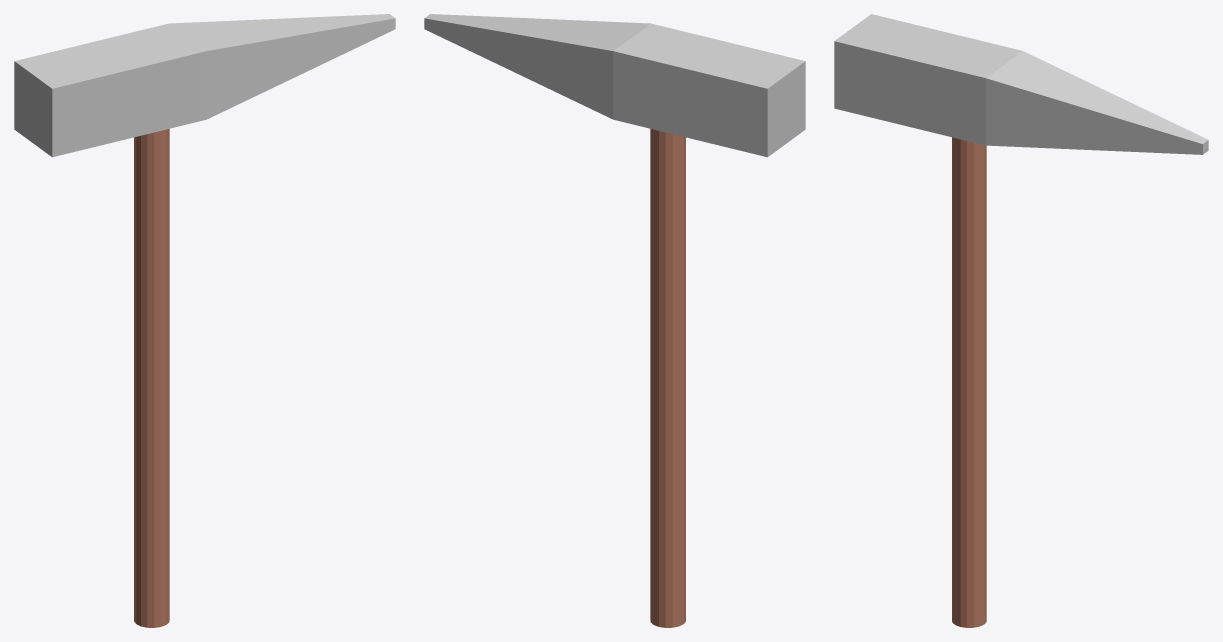
Rendered from Pickaxe.glb.
3 views of the same model, side by side, from view 1: azimuth 30°, elevation 25°; view 2: azimuth 150°, elevation 25°; view 3: azimuth 330°, elevation 25° (orthographic).
Parts seen in each view (by area): view 1: Cube, Cylinder; view 2: Cube, Cylinder; view 3: Cube, Cylinder.
Part boxes in pixels (x1,y1,x2,y2): Cube: (14,14,395,157); Cylinder: (134,129,169,627); Cube: (424,14,805,157); Cylinder: (650,129,685,627); Cube: (834,14,1208,154); Cylinder: (952,137,986,627).
Size of the model in its own units: 1.43 by 2.19 by 0.261.
